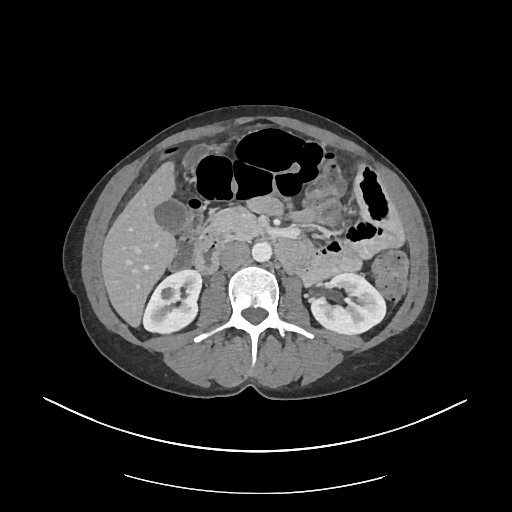Lesion: (154, 283, 179, 302)
